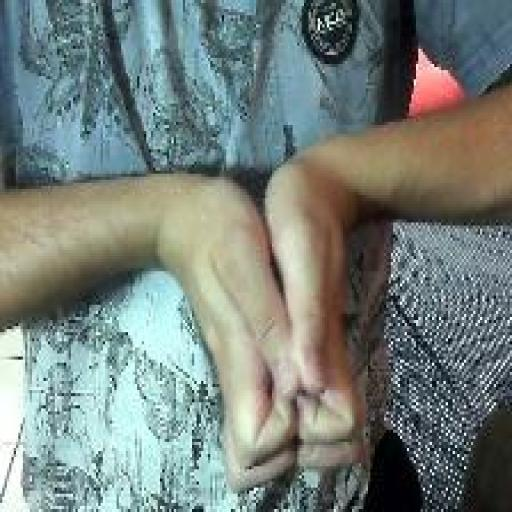I -boar-: (181, 158, 368, 497)
